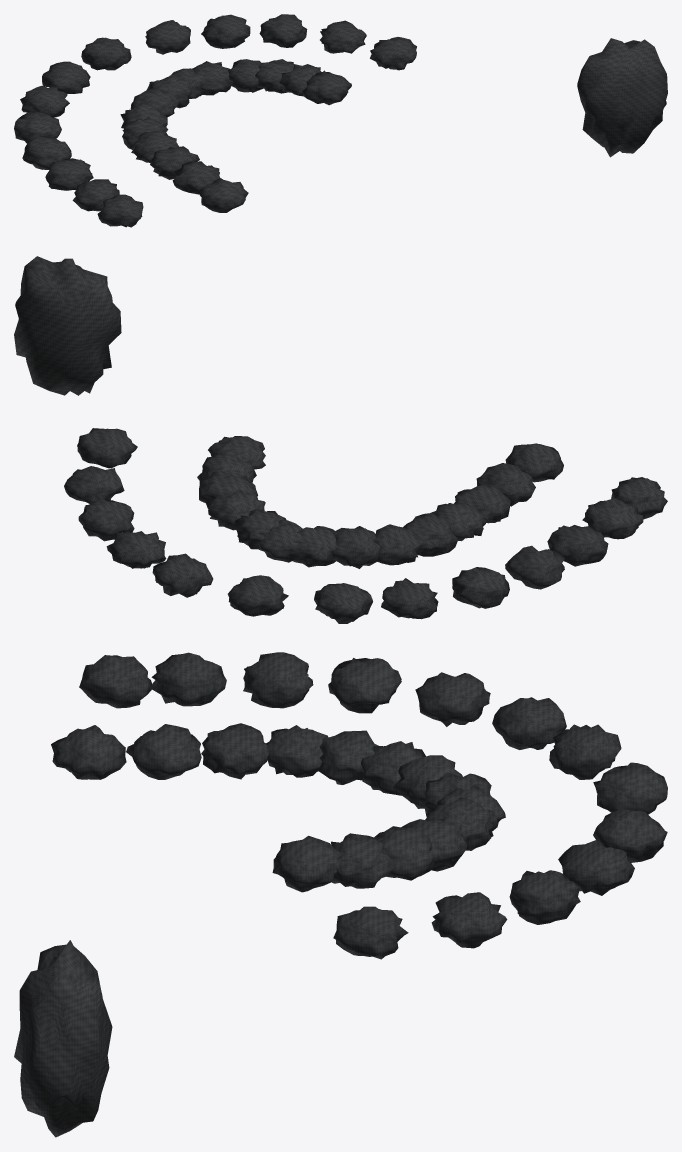
Rendered from Landscape_Basalt_4.fbx.
3 renders of one model, top to bottom at view 1: azimuth 30°, elevation 25°; view 2: azimuth 150°, elevation 25°; view 3: azimuth 270°, elevation 25°, orthographic. The views are drawn at different scales.
Parts seen in each view (by area): view 1: Landscape_Basalt_4; view 2: Landscape_Basalt_4; view 3: Landscape_Basalt_4.
Part boxes in pixels (x1=…): Landscape_Basalt_4: x1=14, y1=14, x2=667, y2=227; Landscape_Basalt_4: x1=14, y1=256, x2=667, y2=623; Landscape_Basalt_4: x1=14, y1=652, x2=667, y2=1137.
Size of the model in its own units: 116916 by 23661 by 76082.
Materials: 1 (1 with a texture image).
